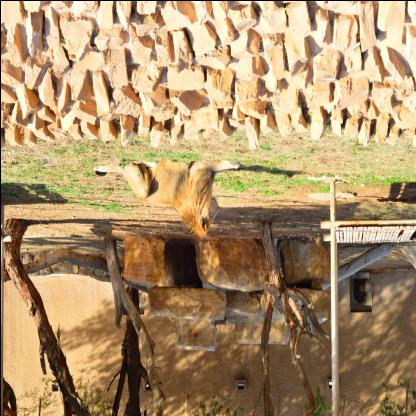lion: (190, 185, 226, 241)
